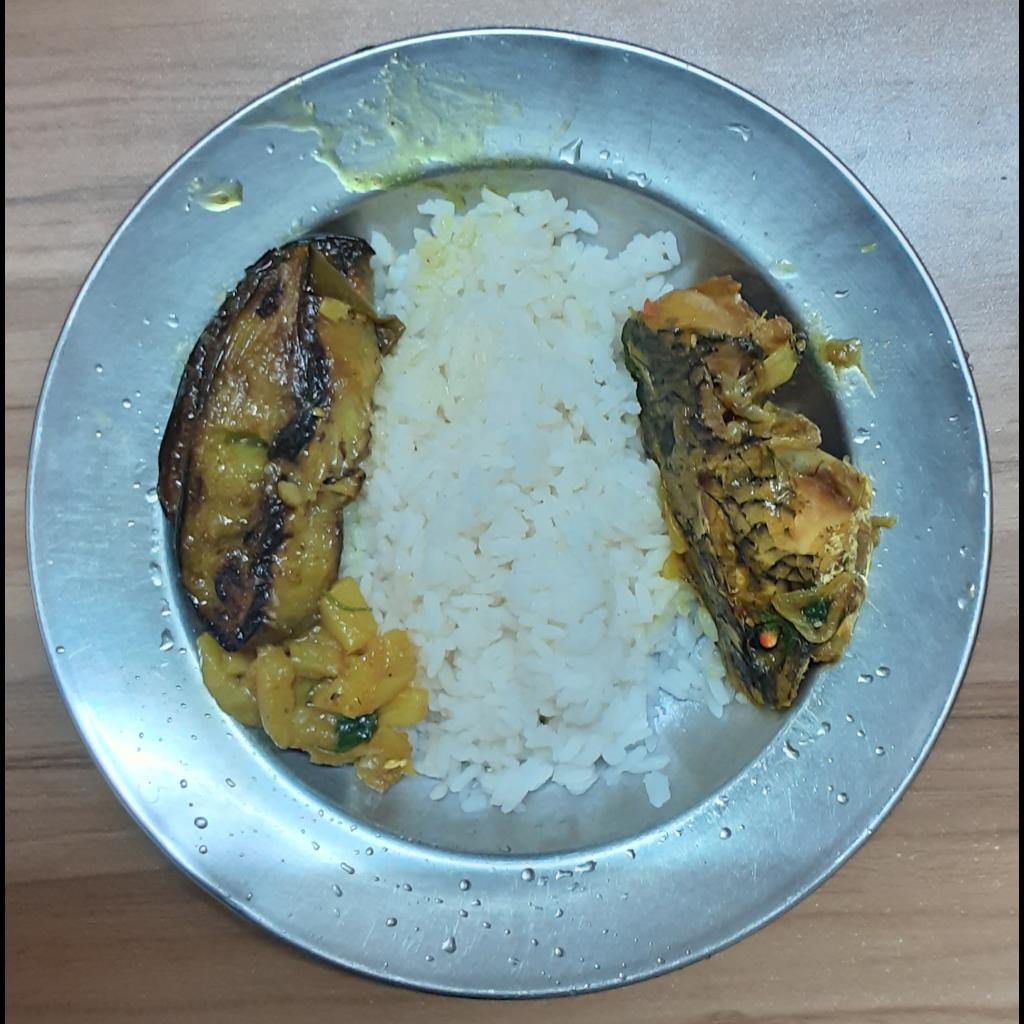begun-vaji: (159, 226, 399, 653)
fish: (621, 270, 883, 707)
potato: (194, 570, 425, 795)
rice: (334, 186, 744, 814)
